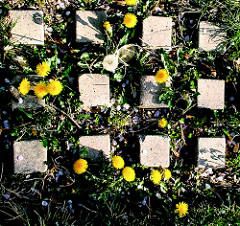dandelion white: (101, 52, 119, 70)
dandelion yellow: (71, 158, 89, 175), (173, 199, 189, 218), (122, 12, 139, 28), (34, 61, 51, 77), (46, 79, 63, 95), (120, 166, 137, 182), (18, 76, 31, 96), (33, 81, 48, 98), (155, 68, 170, 84), (111, 154, 125, 170), (150, 169, 162, 185), (162, 167, 171, 180), (157, 118, 167, 128)
